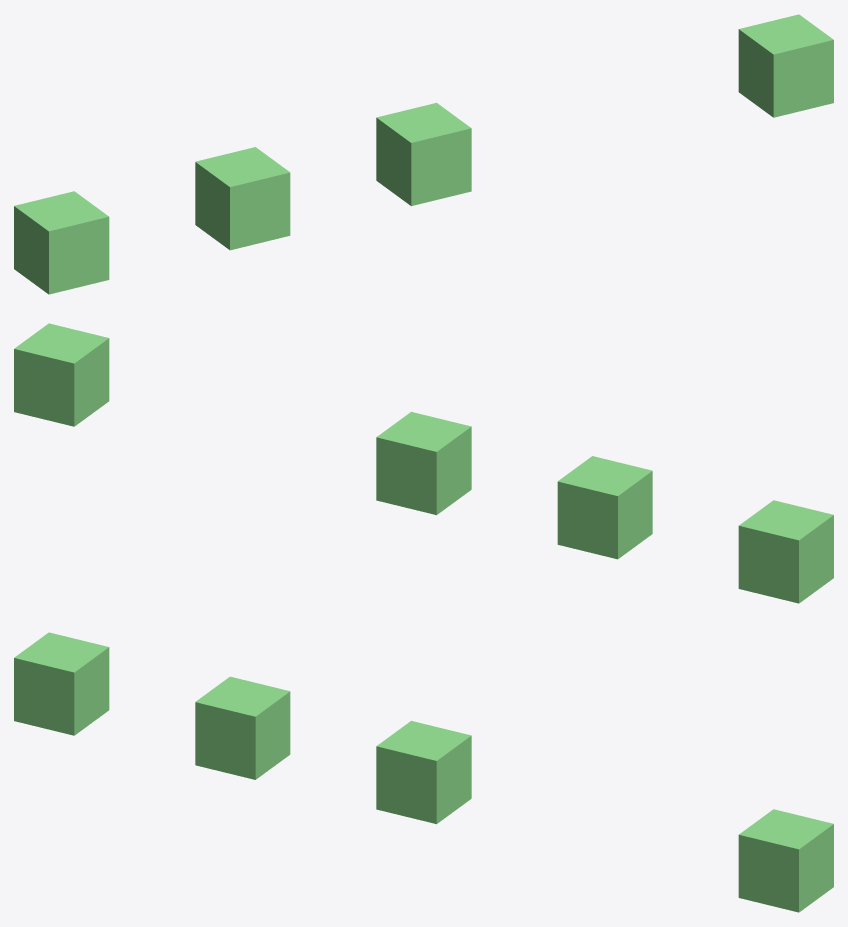
Rendered from Lods.fbx.
3 renders of one model, top to bottom at view 1: azimuth 30°, elevation 25°; view 2: azimuth 150°, elevation 25°; view 3: azimuth 330°, elevation 25°, orthographic.
Parts seen in each view (by area): view 1: Stone_lod0, Plain, Tree_LOD0, Rock_LOD0; view 2: Stone_lod0, Plain, Tree_LOD0, Rock_LOD0; view 3: Stone_lod0, Plain, Tree_LOD0, Rock_LOD0.
Boxes of the visible parts, x1,y1,x2,y2 form: Stone_lod0: (376, 102, 471, 206); Plain: (738, 14, 833, 117); Tree_LOD0: (14, 191, 109, 294); Rock_LOD0: (195, 147, 290, 250); Stone_lod0: (376, 411, 471, 515); Plain: (14, 323, 109, 426); Tree_LOD0: (738, 500, 833, 603); Rock_LOD0: (557, 456, 652, 559); Stone_lod0: (376, 720, 471, 824); Plain: (738, 809, 833, 912); Tree_LOD0: (14, 632, 109, 735); Rock_LOD0: (195, 676, 290, 779).
Size of what is drawn, in the model's own units: 1300 by 100 by 100.
